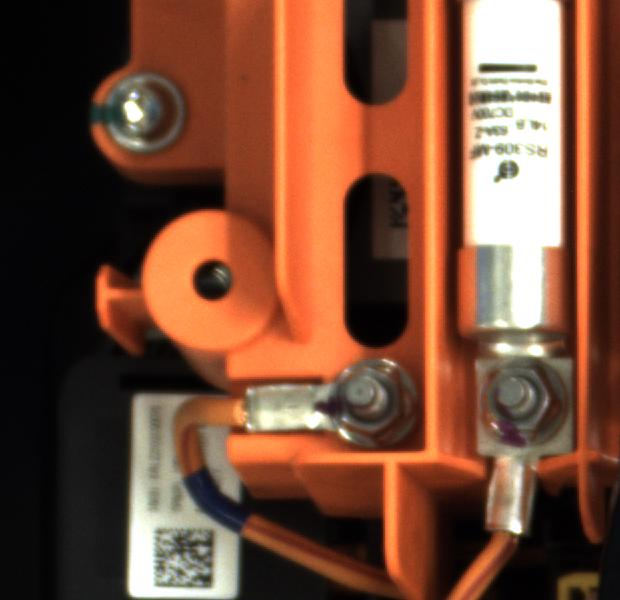screw_m: (90, 65, 205, 163)
screw_s: (464, 349, 573, 453), (311, 350, 415, 455)
